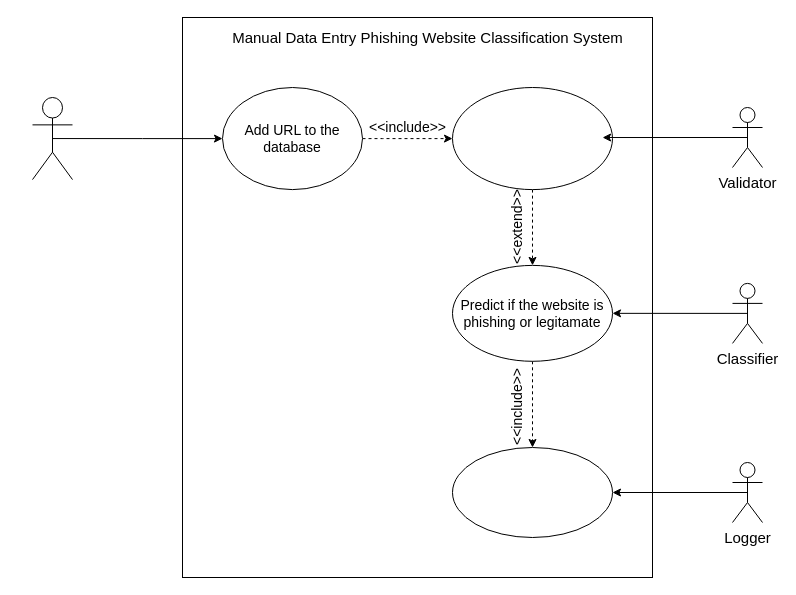
Some shapes in this 796 by 595 pixel diagram are drawn without their labels. Each missing label, with the centre of its shape:
Add URL and the prediction outcome to the database: [532,492]
Check if the URL is already in the database: [532,138]
Data Entry: [52,138]
